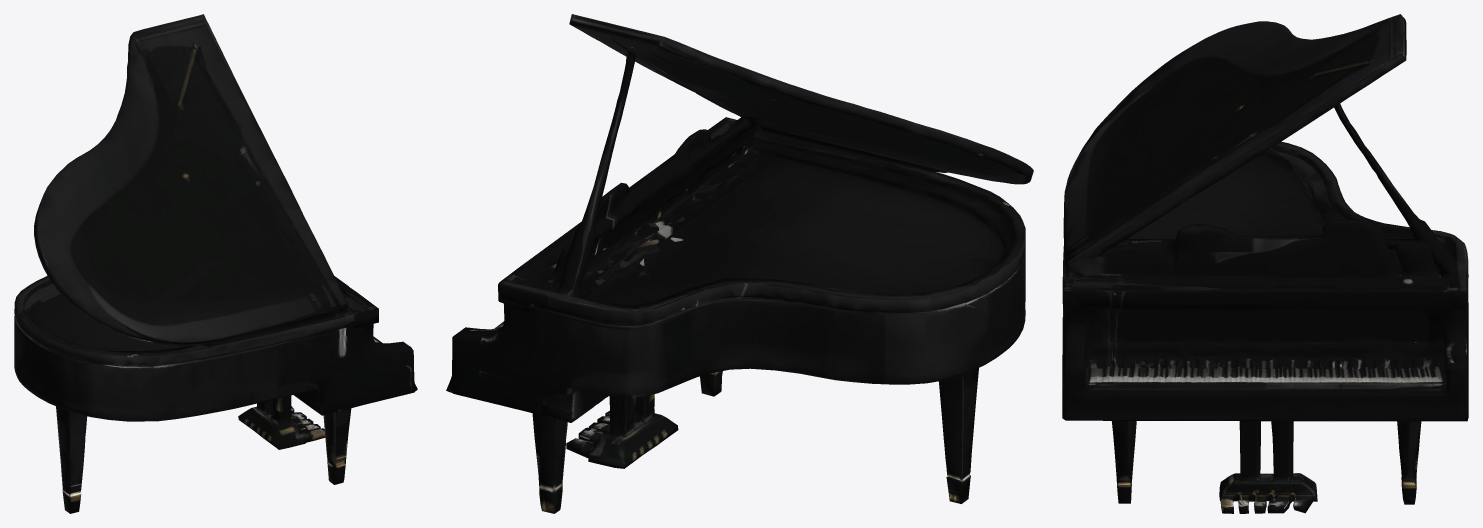
File: Grand_Harmony_0530121901_texture.glb
3 views of the same model, side by side, from view 1: azimuth 30°, elevation 25°; view 2: azimuth 150°, elevation 25°; view 3: azimuth 270°, elevation 25° (orthographic). The views are drawn at different scales.
Size of the model in its own units: 1.74 by 1.99 by 1.66.
1 material, 1 textured.
